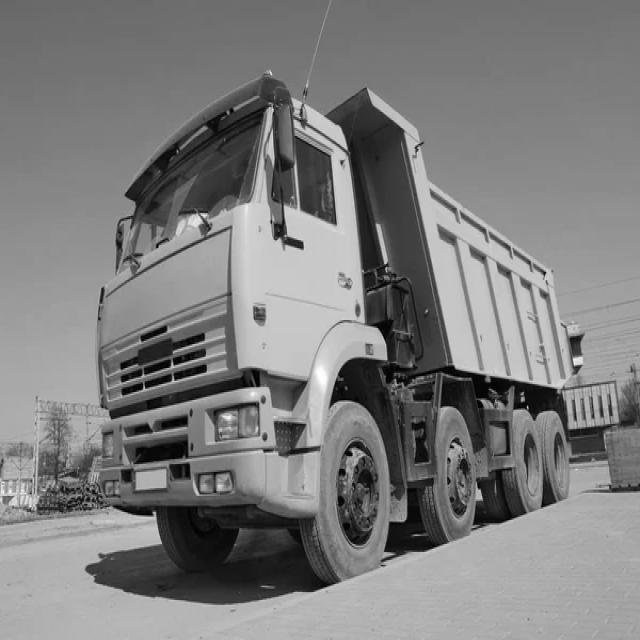Truck: (96, 75, 585, 583)
